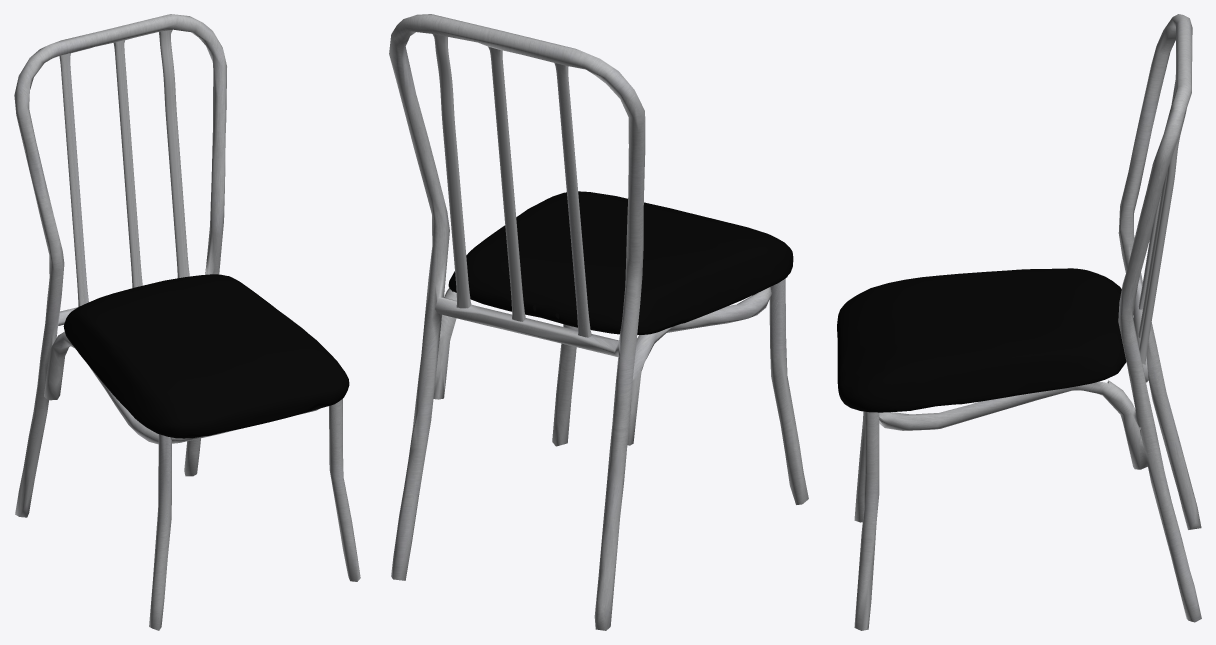
The model's file is Chair.fbx.
3 renders of one model, left to right at view 1: azimuth 30°, elevation 25°; view 2: azimuth 150°, elevation 25°; view 3: azimuth 270°, elevation 25°, orthographic. The views are drawn at different scales.
Visible parts, largest first — view 1: polySurface1, polySurface2; view 2: polySurface2, polySurface1; view 3: polySurface1, polySurface2.
Part boxes in pixels (x1,y1,x2,y2): polySurface1: [63, 274, 349, 438]; polySurface2: [14, 14, 360, 630]; polySurface2: [389, 14, 808, 630]; polySurface1: [448, 191, 793, 334]; polySurface1: [837, 268, 1126, 412]; polySurface2: [854, 14, 1201, 630].
Size of the model in its own units: 0.8162 by 1.75 by 1.1.
Materials: 2 (1 with a texture image).
